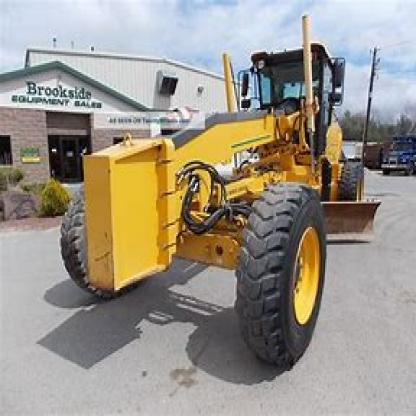bull_dozer/loader/grader: (56, 29, 387, 367)
